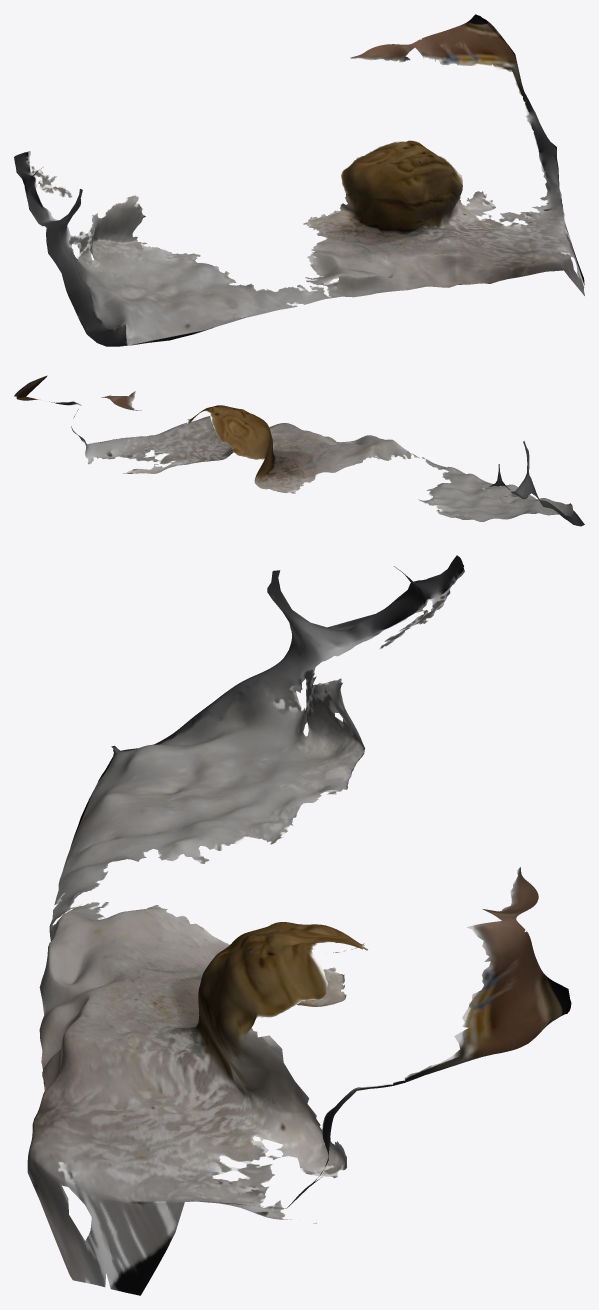
The picture shows the model from 3 angles, top to bottom: view 1: azimuth 30°, elevation 25°; view 2: azimuth 150°, elevation 25°; view 3: azimuth 270°, elevation 25°; orthographic projection. The views are drawn at different scales.
Bounding box in the file's own units: 0.9129 × 0.2919 × 0.4557.
1 material, 1 textured.
